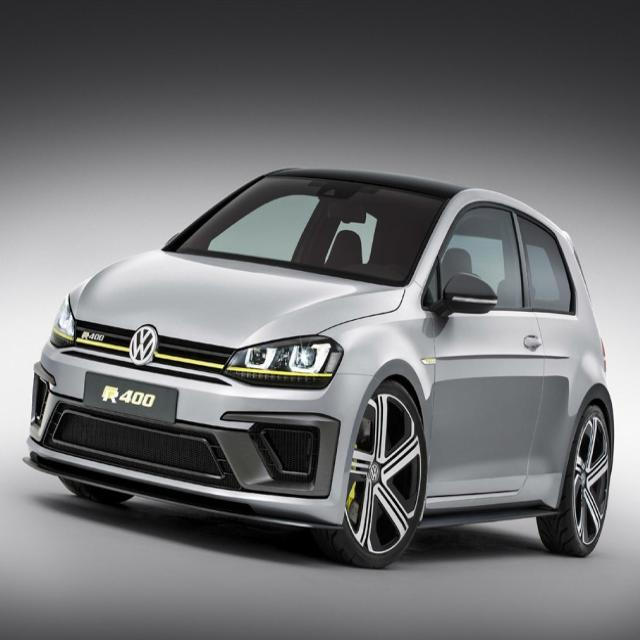back_glass: (168, 169, 459, 289)
front_bumper: (28, 338, 372, 530)
front_left_side_door: (420, 199, 549, 501)
front_left_side_light: (222, 330, 343, 392)
front_left_side_mirror: (441, 273, 497, 320)
front_right_side_light: (43, 292, 80, 348)
wheel: (332, 382, 426, 566), (538, 403, 612, 551)
